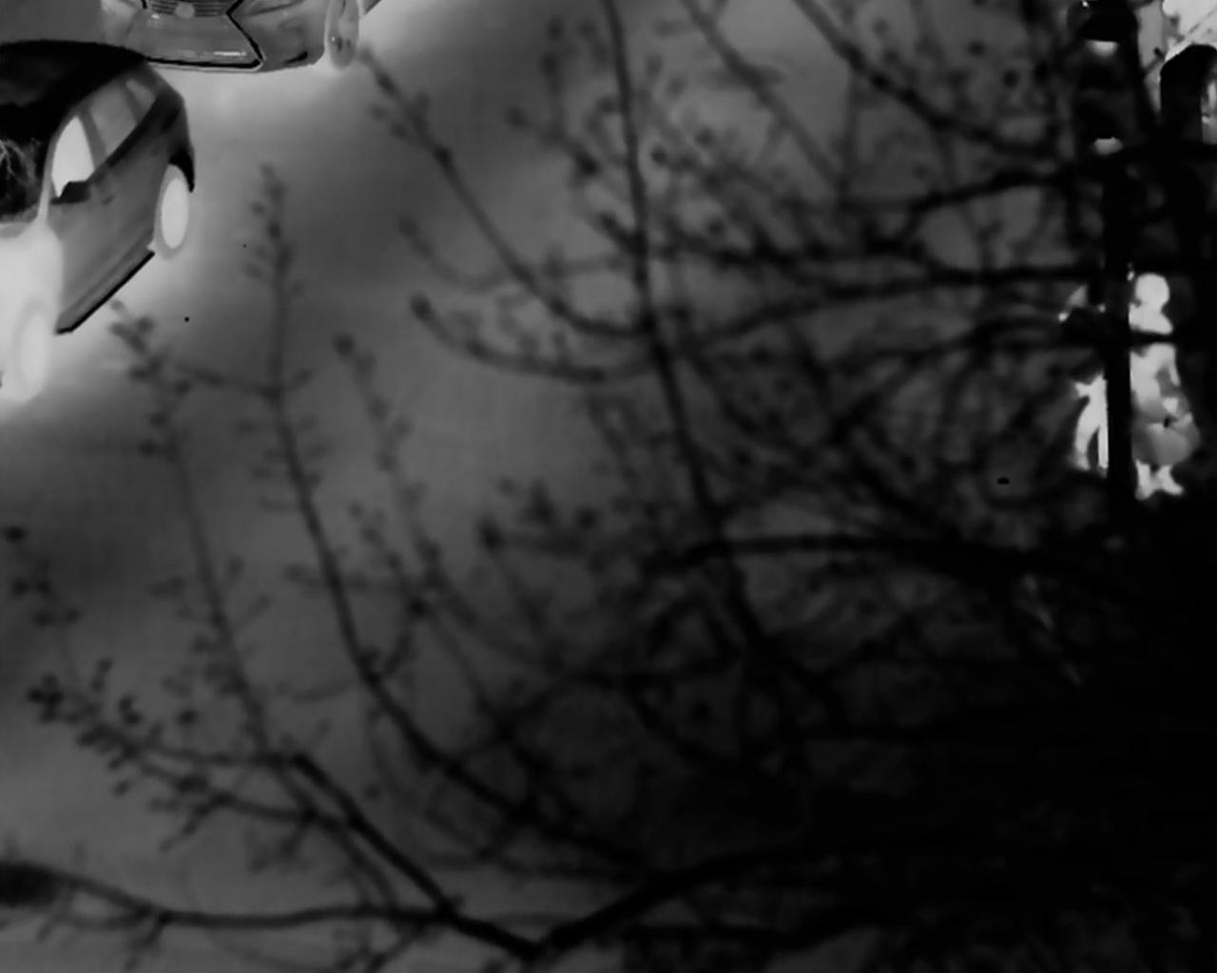person: (1043, 259, 1121, 485), (1124, 271, 1195, 498)
